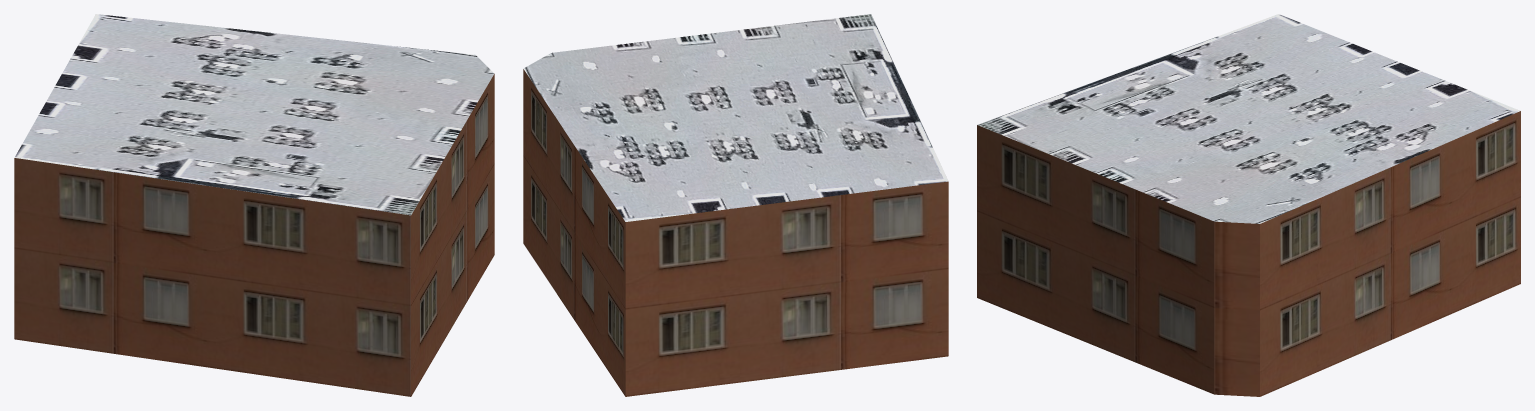
File: ResTex__4737.fbx
The picture shows the model from 3 angles, left to right: view 1: azimuth 30°, elevation 25°; view 2: azimuth 150°, elevation 25°; view 3: azimuth 270°, elevation 25°; orthographic projection. The views are drawn at different scales.
Parts seen in each view (by area): view 1: CityEngineMaterial_20_m, CityEngineMaterial_2_m; view 2: CityEngineMaterial_20_m, CityEngineMaterial_2_m; view 3: CityEngineMaterial_20_m, CityEngineMaterial_2_m.
Part boxes in pixels (x1,y1,x2,y2): CityEngineMaterial_20_m: (14,74,494,396); CityEngineMaterial_2_m: (14,14,494,215); CityEngineMaterial_20_m: (523,69,948,396); CityEngineMaterial_2_m: (523,14,948,221); CityEngineMaterial_20_m: (977,111,1520,396); CityEngineMaterial_2_m: (977,14,1520,223).
Bounding box in the file's own units: 15.61 × 6 × 17.09.
2 materials, 2 textured.
